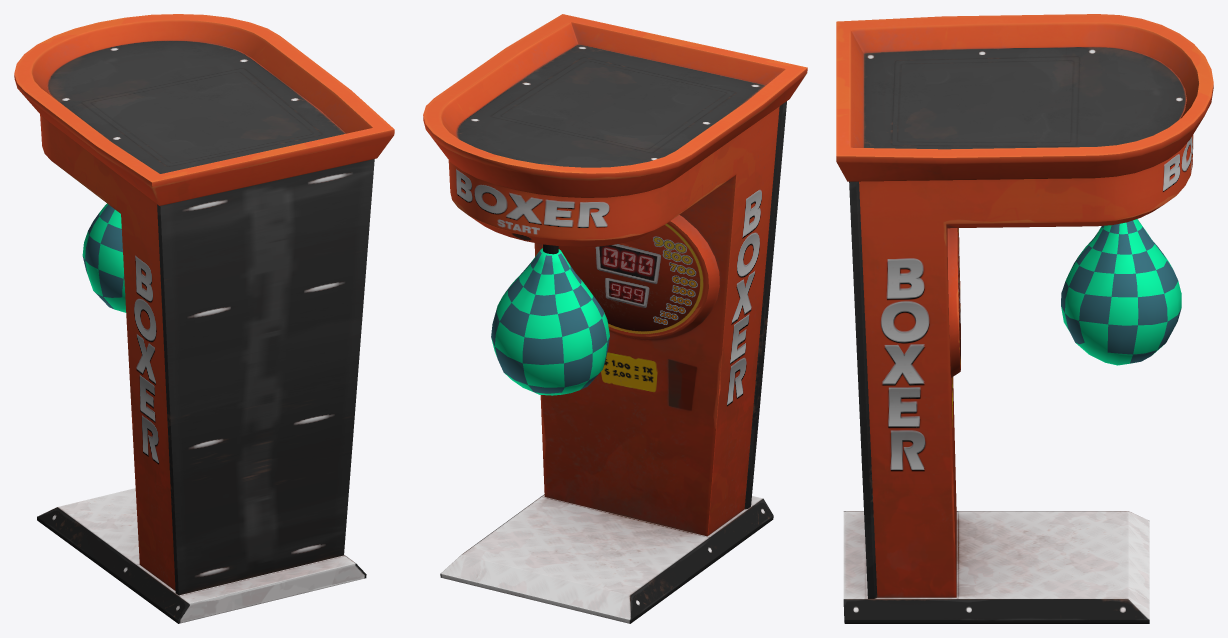
File: punch machine.fbx
3 renders of one model, left to right at view 1: azimuth 30°, elevation 25°; view 2: azimuth 150°, elevation 25°; view 3: azimuth 270°, elevation 25°, orthographic. The views are drawn at different scales.
Parts seen in each view (by area): view 1: model_0.002, Retopo_model_0.003; view 2: model_0.002, Retopo_model_0.003; view 3: model_0.002, Retopo_model_0.003.
Boxes of the visible parts, x1,y1,x2,y2 form: model_0.002: (14,14,394,623); Retopo_model_0.003: (82,203,126,312); model_0.002: (423,14,807,623); Retopo_model_0.003: (491,244,609,395); model_0.002: (836,14,1213,623); Retopo_model_0.003: (1061,219,1181,365).
Size of the model in its own units: 1.21 by 2.06 by 1.43.
Materials: 3 (1 with a texture image).
